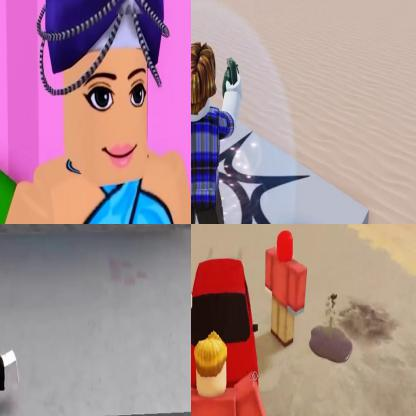Roblox-Avatar: (1, 1, 191, 224), (192, 41, 244, 224), (192, 330, 274, 416), (266, 230, 308, 349), (1, 259, 21, 395)
